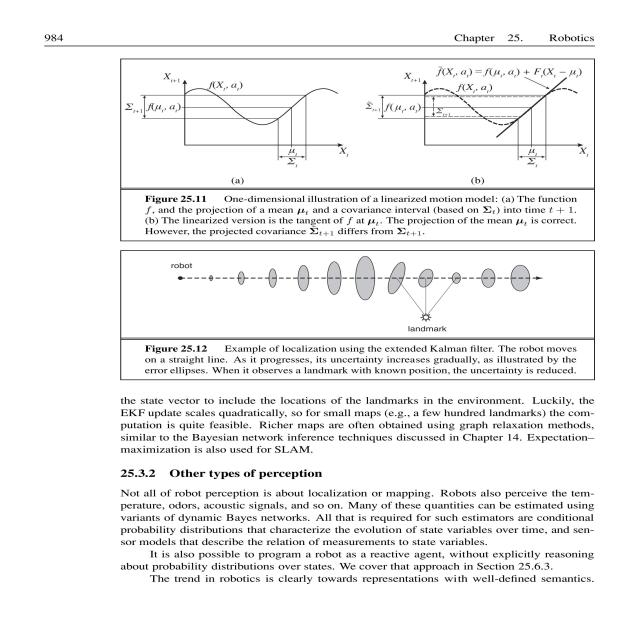diagram: (107, 56, 576, 374)
